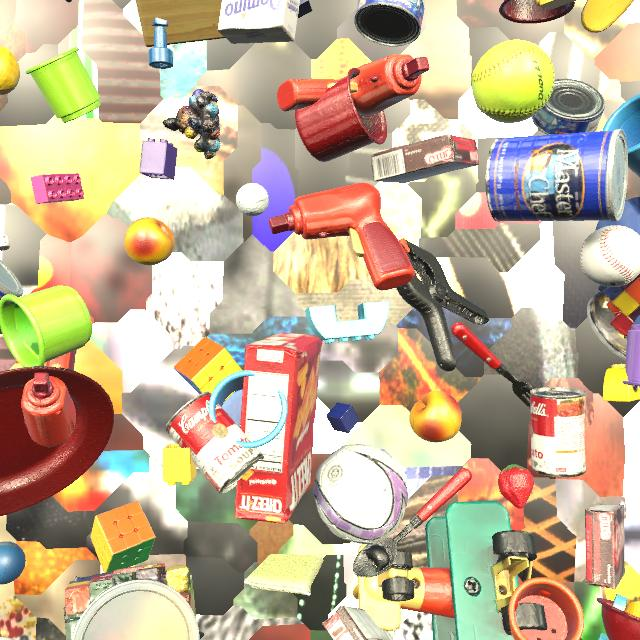ycb_002_master_chef_can: (485, 129, 628, 222), (0, 260, 23, 300)
ycb_003_cracker_box: (235, 333, 322, 524)
ycb_004_sugar_box: (218, 0, 300, 44)
ycb_005_tomato_soup_can: (165, 392, 264, 494), (530, 387, 586, 477)
ycb_007_tuna_fish_can: (532, 79, 605, 135), (354, 0, 424, 47)
ycb_008_pudding_box: (371, 134, 479, 183), (585, 503, 625, 589), (322, 606, 394, 640)
ycb_012_strawberry: (498, 464, 534, 509)
ycb_014_lemon: (0, 46, 20, 95)
ycb_015_peach: (409, 391, 462, 442), (124, 217, 175, 265)
